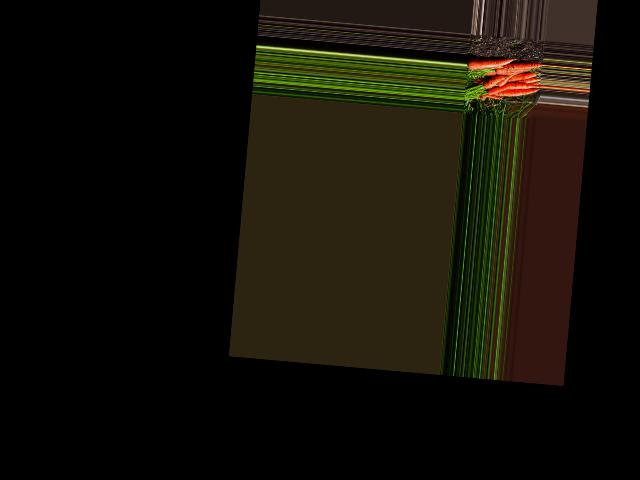carrot: (485, 80, 540, 99)
